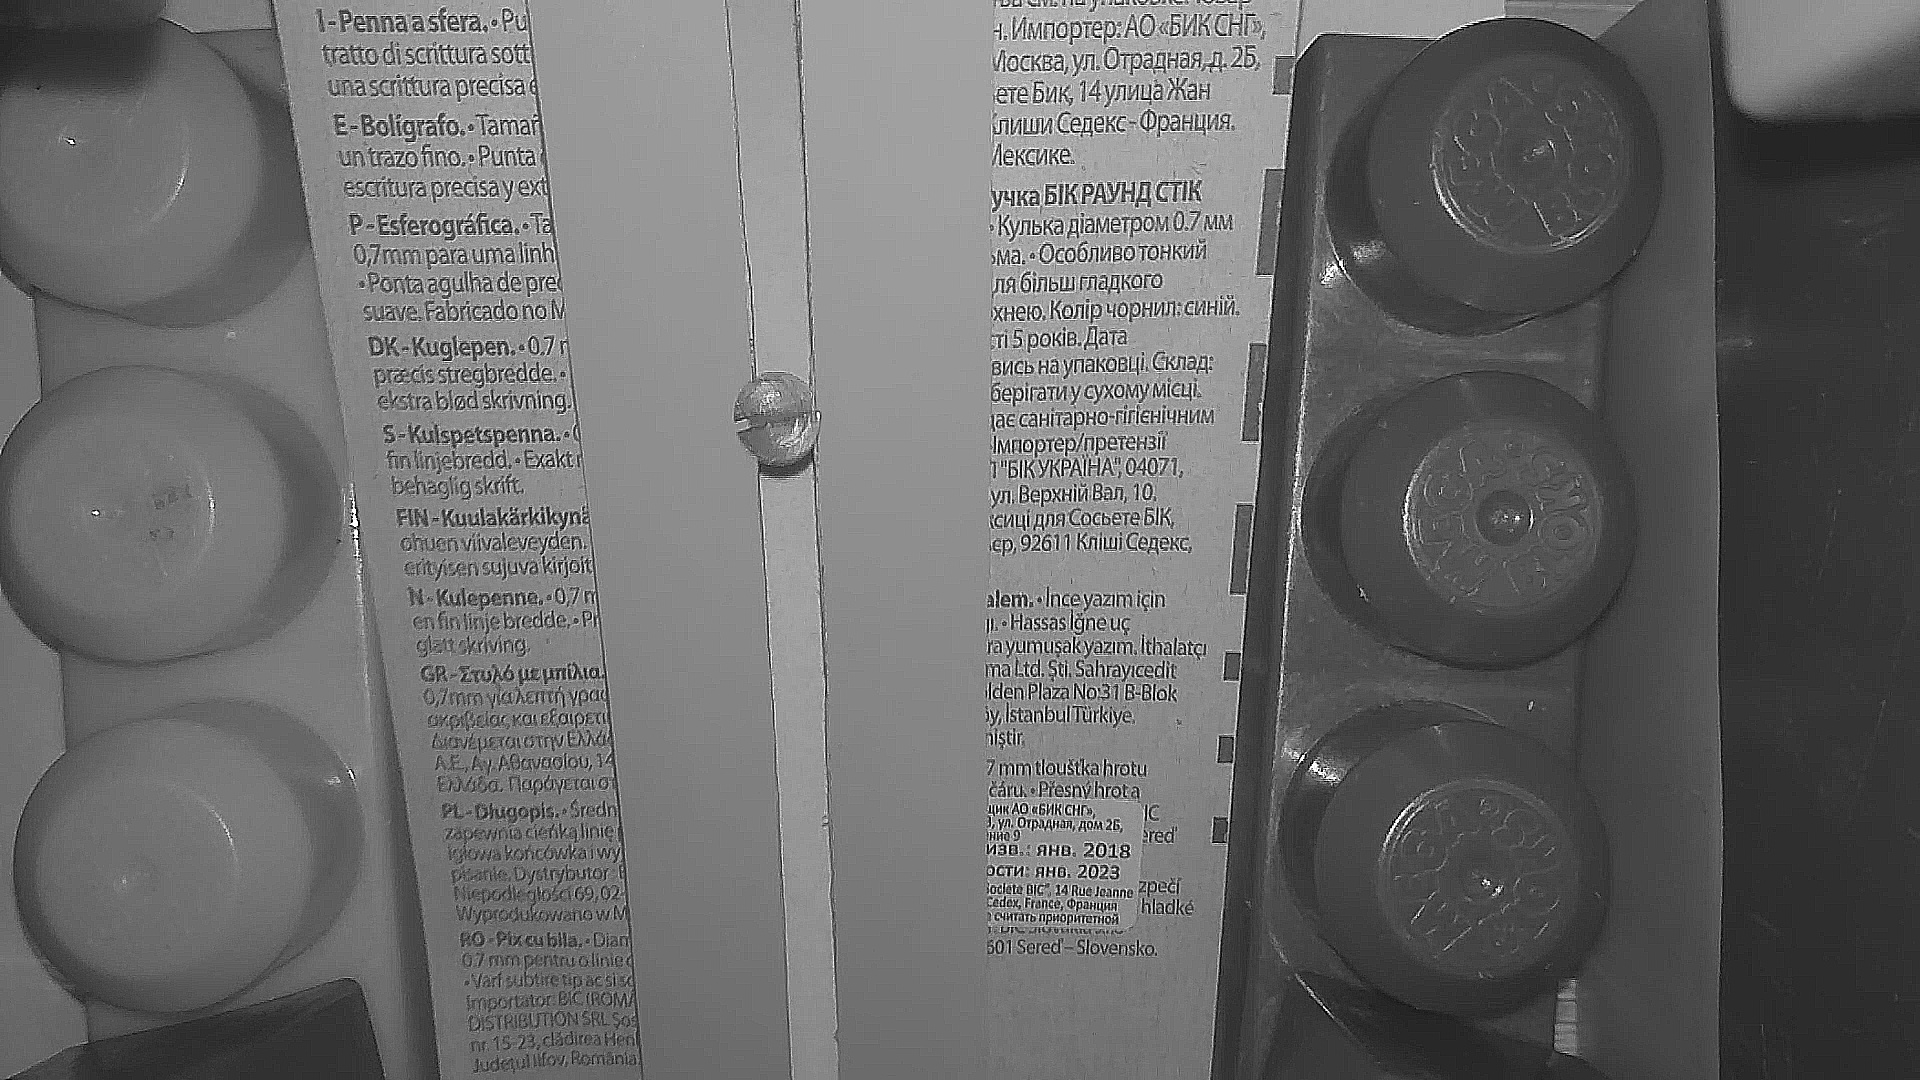i: (735, 371, 822, 465)
